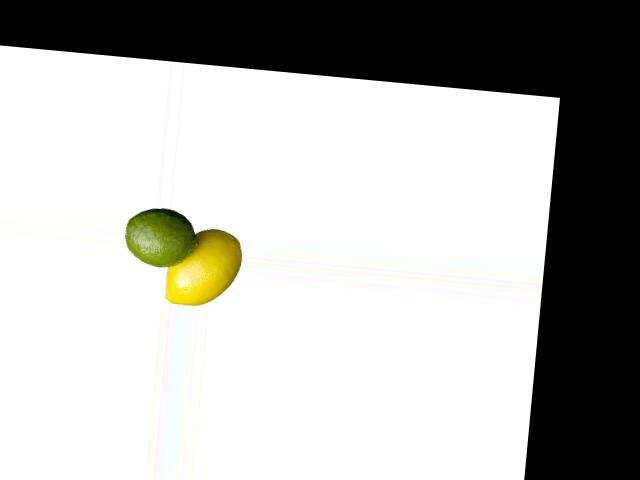lemon: (120, 201, 211, 282)
